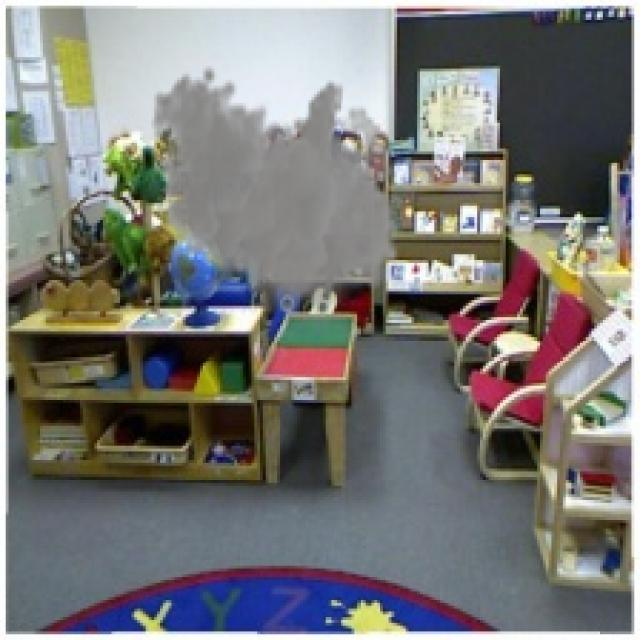smoke: (151, 66, 400, 326)
